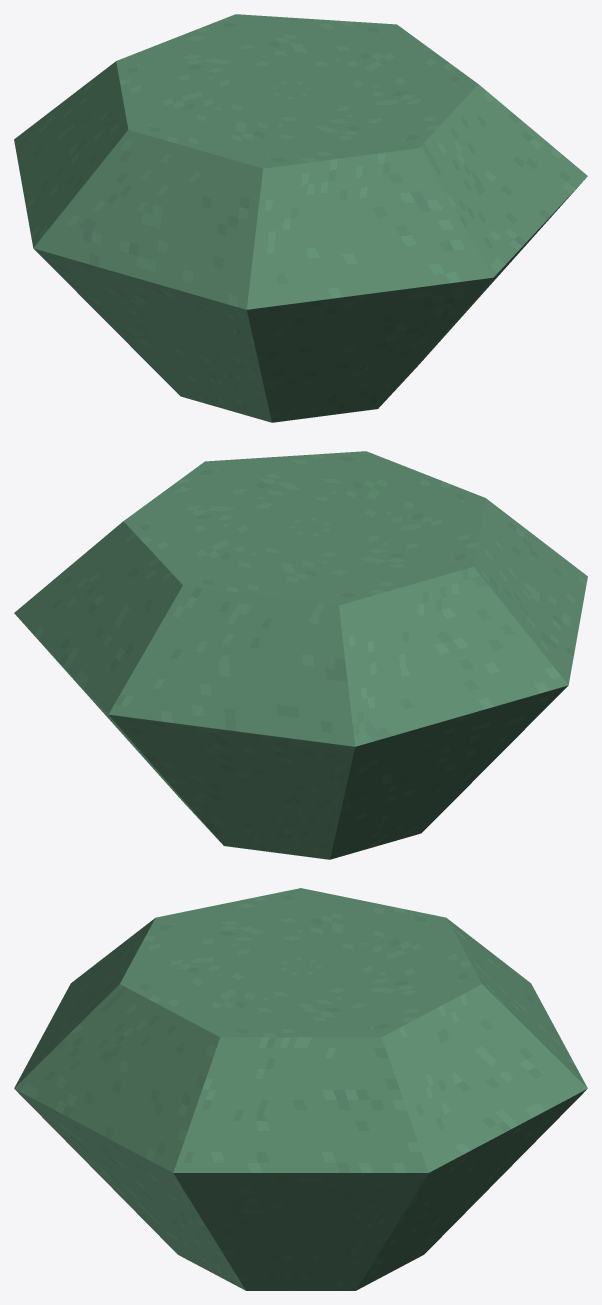
The model's file is malachite.glb.
3 views of the same model, one above another, from view 1: azimuth 30°, elevation 25°; view 2: azimuth 150°, elevation 25°; view 3: azimuth 270°, elevation 25° (orthographic).
Visible parts, largest first — view 1: block_faceted crown, block_faceted lower stone; view 2: block_faceted crown, block_faceted lower stone; view 3: block_faceted crown, block_faceted lower stone.
Part boxes in pixels (x1,y1,x2,y2): block_faceted crown: [14, 14, 587, 309]; block_faceted lower stone: [33, 179, 584, 422]; block_faceted crown: [14, 451, 587, 746]; block_faceted lower stone: [17, 616, 568, 859]; block_faceted crown: [14, 888, 587, 1172]; block_faceted lower stone: [15, 1089, 586, 1290].
Size of the model in its own units: 0.0333 by 0.0181 by 0.0342.
1 material, 1 textured.
